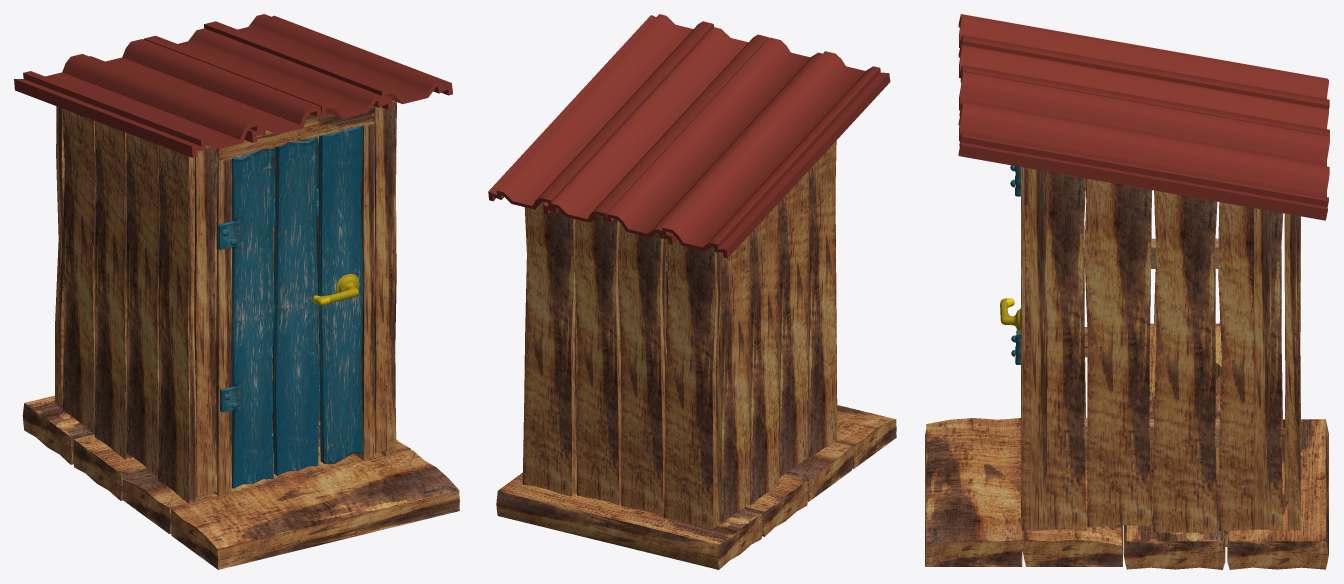
File: toilette.glb
The picture shows the model from 3 angles, left to right: view 1: azimuth 30°, elevation 25°; view 2: azimuth 150°, elevation 25°; view 3: azimuth 270°, elevation 25°; orthographic projection. The views are drawn at different scales.
Visible parts, largest first — view 1: toilette, toilette_porte; view 2: toilette; view 3: toilette, toilette_porte.
Boxes of the visible parts, box(x1,y1,x2,y2) form: toilette: box(14, 14, 459, 569); toilette_porte: box(232, 126, 362, 488); toilette: box(488, 14, 896, 569); toilette: box(925, 14, 1329, 569); toilette_porte: box(1000, 172, 1020, 358).
Size of the model in its own units: 1.95 by 3.03 by 2.54.
7 materials, 7 textured.
